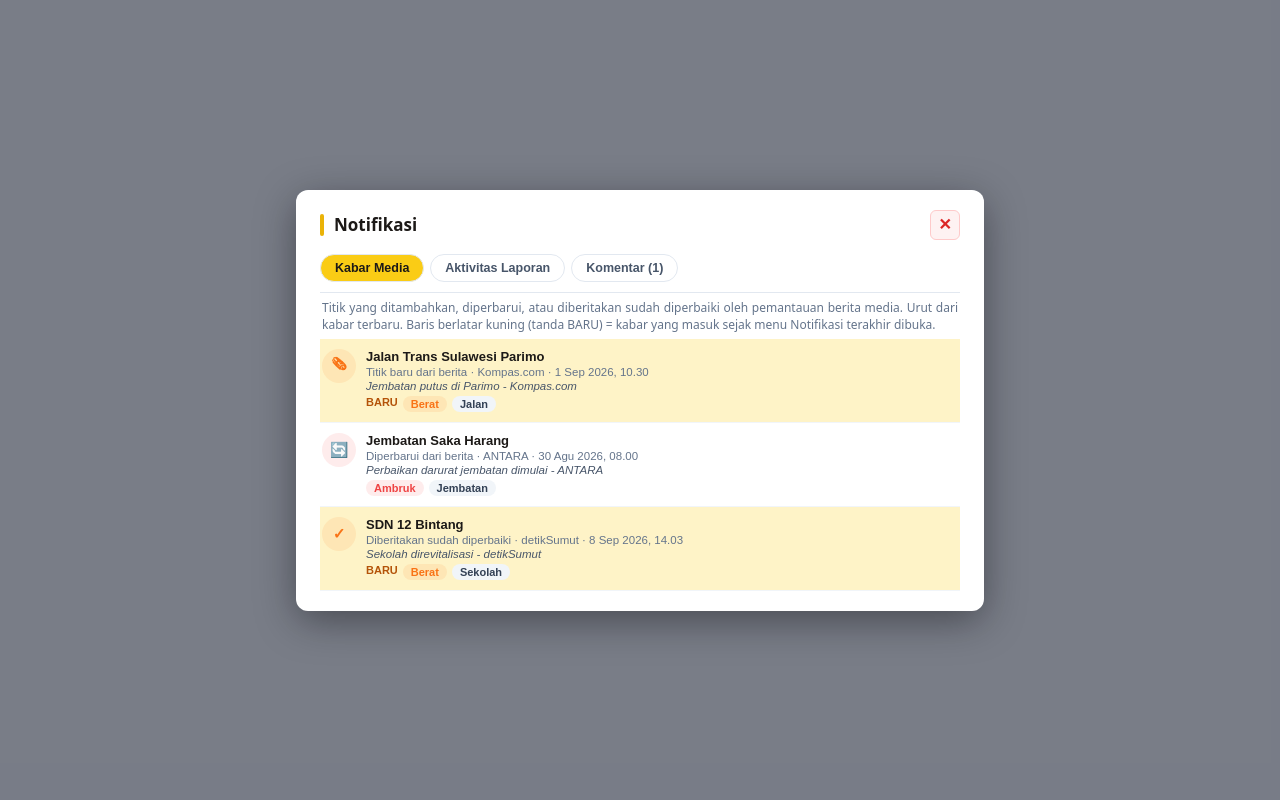
Test: NotifikasiModal: 3 tab (Kabar Media / Aktivitas Laporan / Komentar) › menu Notifikasi: hanya baris baru yang punya latar, di ketiga tab
The width and height of the screenshot is (1280, 800).
Check: the text "Jalan Trans Sulawesi Parimo" is shown, box [366, 348, 544, 364]
What coordinates should you click on to do the following:
click the button "Aktivitas Laporan"
I would click on:
 (498, 268)
Its box is [430, 254, 565, 282].
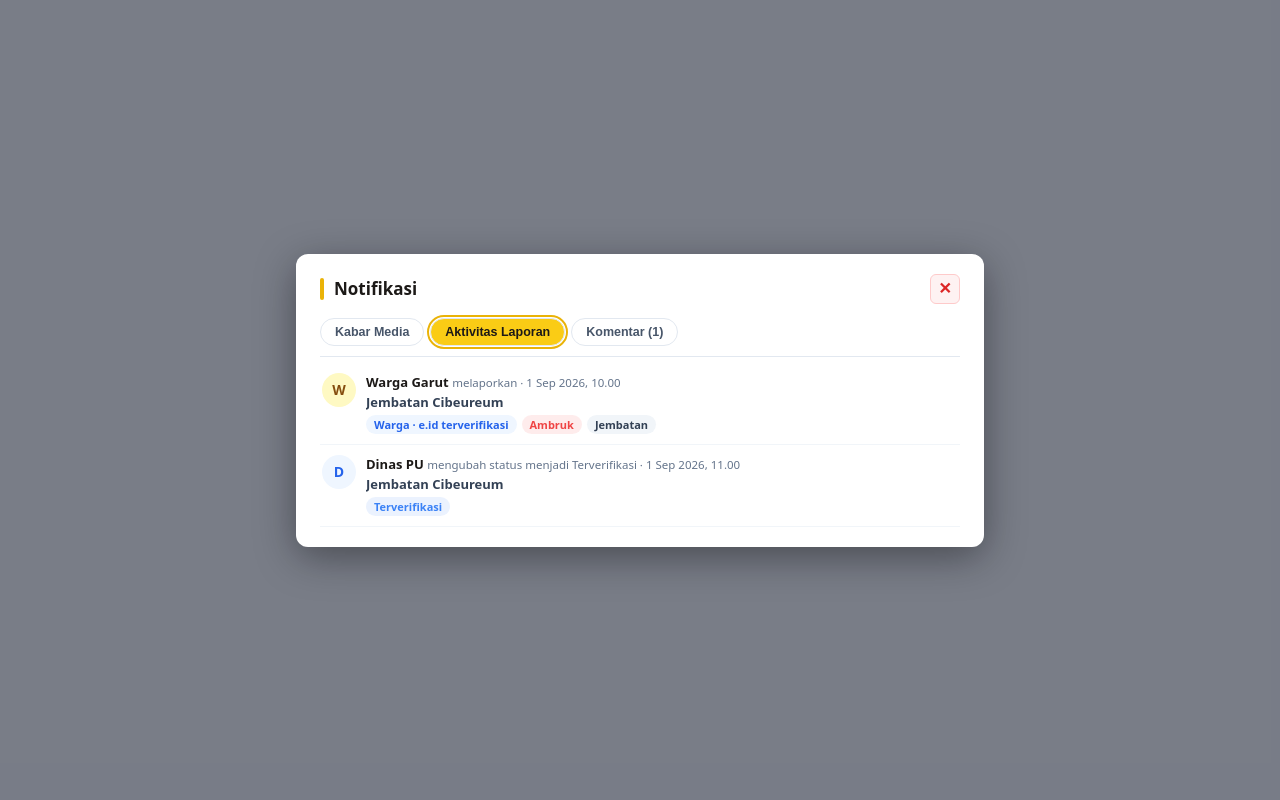
Check: the text "Warga Garut" is shown, box [366, 372, 449, 390]
What coordinates should you click on to do the following:
click the button "Komentar (1)"
I would click on:
 (625, 332)
Its box is [571, 318, 678, 346].
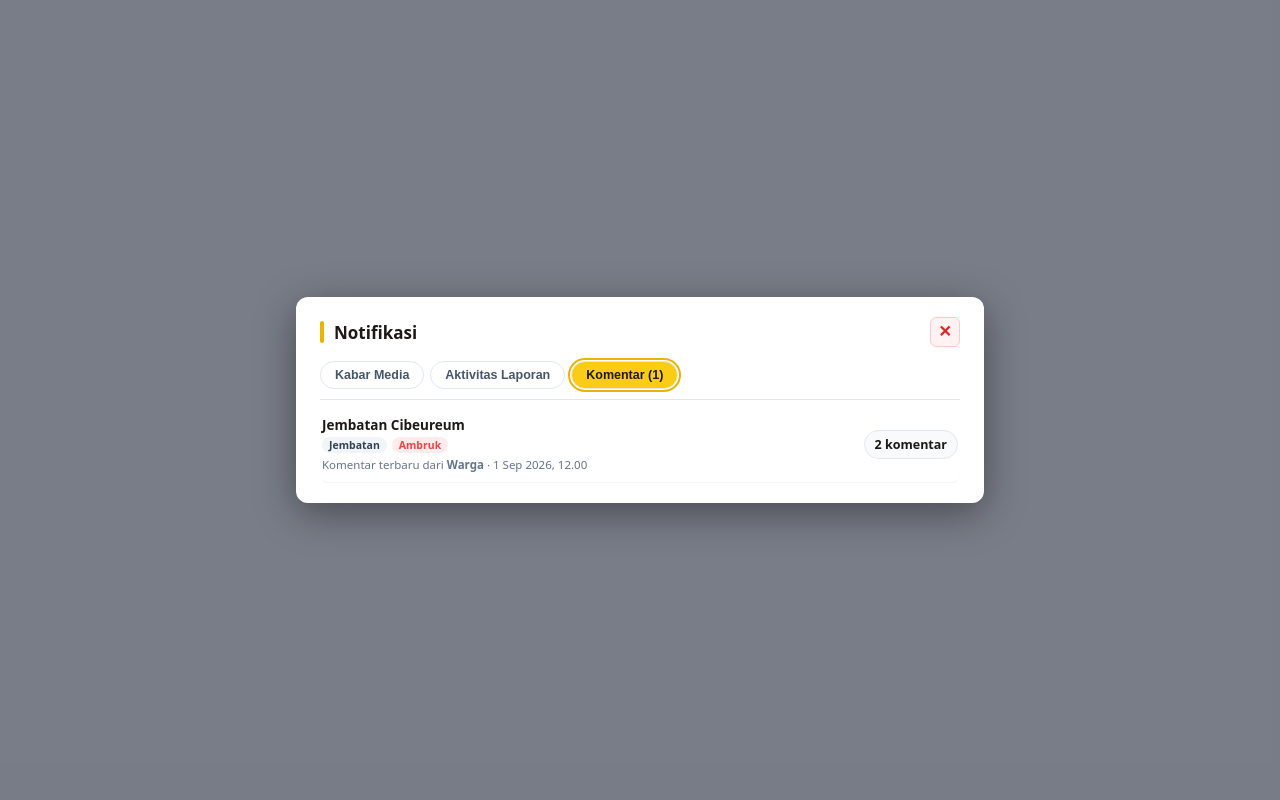
Check: the text "Komentar terbaru dari Warga · 1 Sep 2026, 12.00" is shown, box [322, 457, 587, 472]
